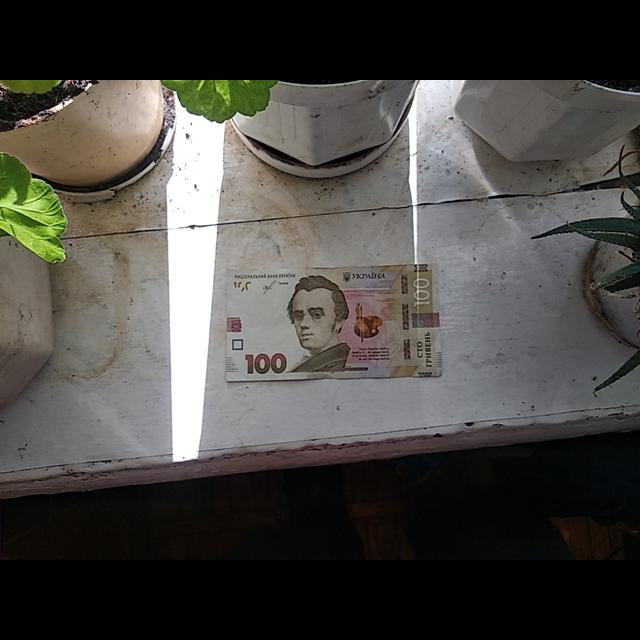100uah: (223, 270, 441, 376)
